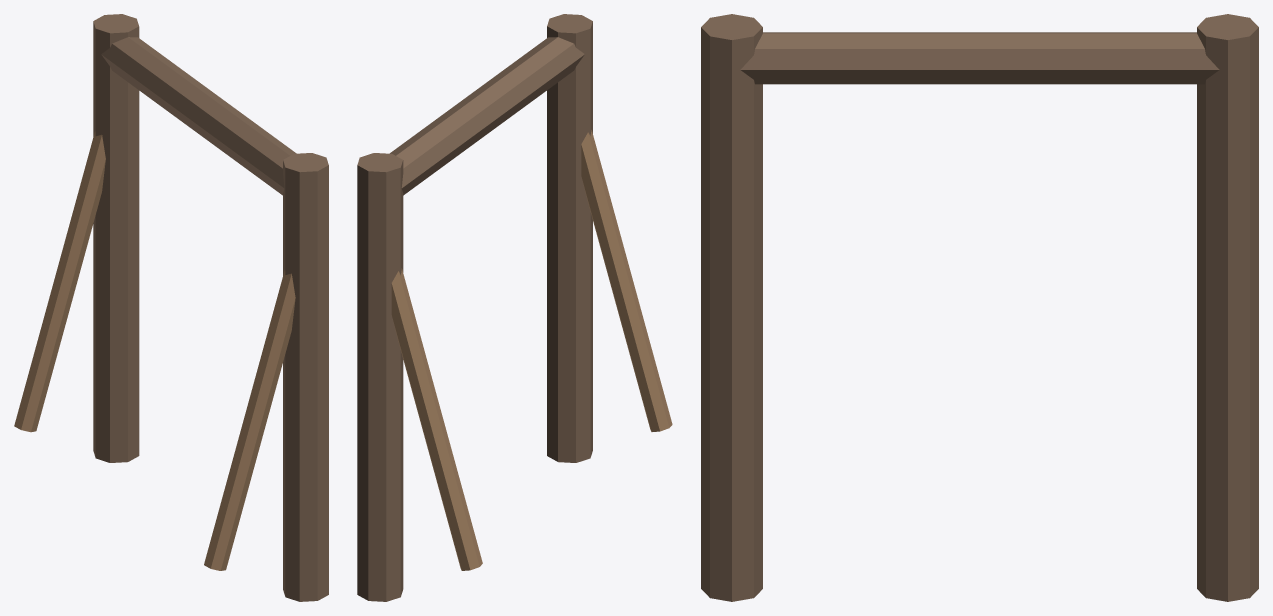
Rendered from Bridge_Rope_Anchor.fbx.
The picture shows the model from 3 angles, left to right: view 1: azimuth 30°, elevation 25°; view 2: azimuth 150°, elevation 25°; view 3: azimuth 270°, elevation 25°; orthographic projection. The views are drawn at different scales.
Visible parts, largest first — view 1: Bridge_Rope_Anchor; view 2: Bridge_Rope_Anchor; view 3: Bridge_Rope_Anchor.
Boxes of the visible parts, <box> form: Bridge_Rope_Anchor: <box>14,14,328,601</box>; Bridge_Rope_Anchor: <box>357,14,672,601</box>; Bridge_Rope_Anchor: <box>701,14,1258,601</box>.
Bounding box in the file's own units: 53.19 × 180 × 162.
